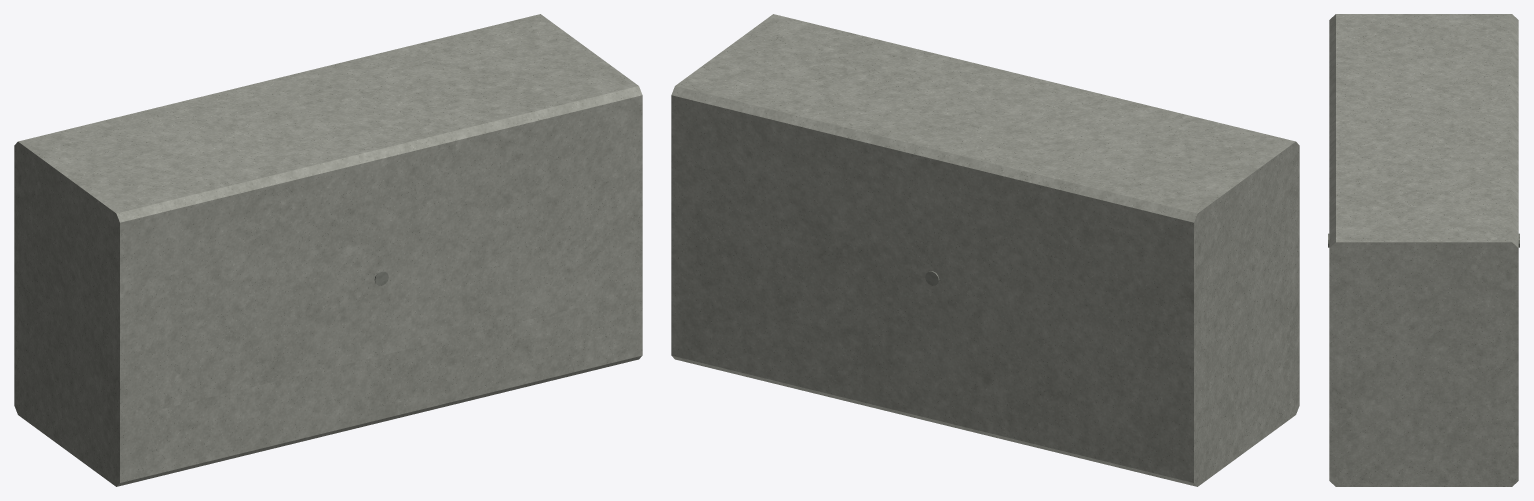
File: PZ_Beam_0350x0500_1m.glb
3 views of the same model, side by side, from view 1: azimuth 30°, elevation 25°; view 2: azimuth 150°, elevation 25°; view 3: azimuth 270°, elevation 25° (orthographic). The views are drawn at different scales.
Parts seen in each view (by area): view 1: RENDER_PZ_Beam_0350x0500_1m__RENDER_Beam_Precast_Core__000; view 2: RENDER_PZ_Beam_0350x0500_1m__RENDER_Beam_Precast_Core__000; view 3: RENDER_PZ_Beam_0350x0500_1m__RENDER_Beam_Precast_Core__000.
Boxes of the visible parts, <box> form: RENDER_PZ_Beam_0350x0500_1m__RENDER_Beam_Precast_Core__000: <box>14,14,642,486</box>; RENDER_PZ_Beam_0350x0500_1m__RENDER_Beam_Precast_Core__000: <box>671,14,1299,486</box>; RENDER_PZ_Beam_0350x0500_1m__RENDER_Beam_Precast_Core__000: <box>1329,14,1518,486</box>.
Bounding box in the file's own units: 1 × 0.5 × 0.355.
2 materials, 2 textured.
